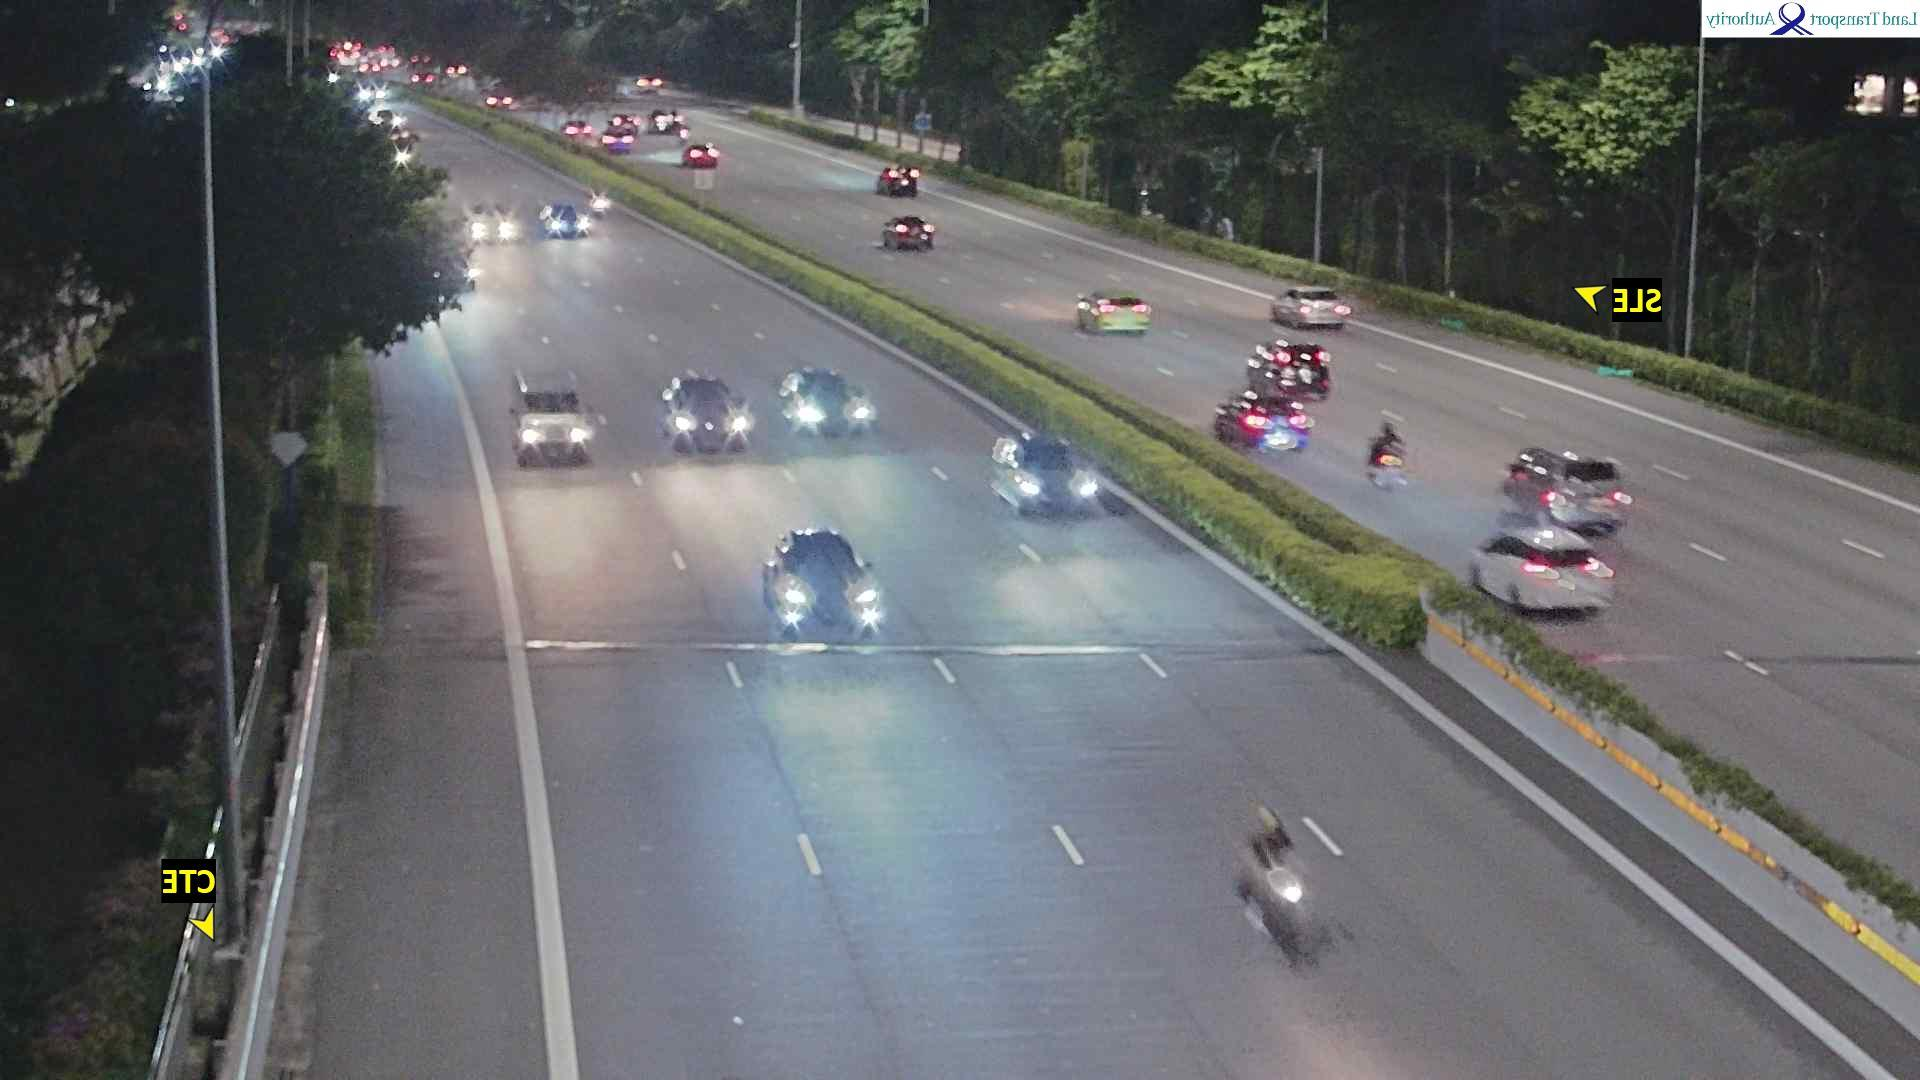cars: (1469, 519, 1617, 615), (763, 525, 886, 640), (1504, 445, 1634, 535), (991, 428, 1101, 516), (661, 369, 756, 455), (779, 364, 880, 438), (1213, 387, 1314, 453), (1247, 337, 1334, 401), (1271, 284, 1354, 329), (1076, 290, 1153, 334), (363, 105, 420, 152), (466, 201, 518, 243), (539, 200, 593, 238), (882, 214, 937, 251), (432, 252, 478, 292), (649, 106, 688, 146), (877, 163, 921, 197), (597, 125, 636, 158), (481, 79, 522, 109), (682, 141, 721, 168), (347, 80, 386, 105), (588, 187, 613, 216), (605, 111, 641, 131), (563, 118, 594, 140), (405, 71, 435, 92), (442, 60, 470, 81), (409, 47, 435, 66), (636, 75, 664, 91), (353, 62, 379, 77), (377, 54, 401, 70)
motorcycle: (1233, 802, 1330, 971), (1365, 420, 1410, 491)
trucks: (510, 368, 600, 467)
